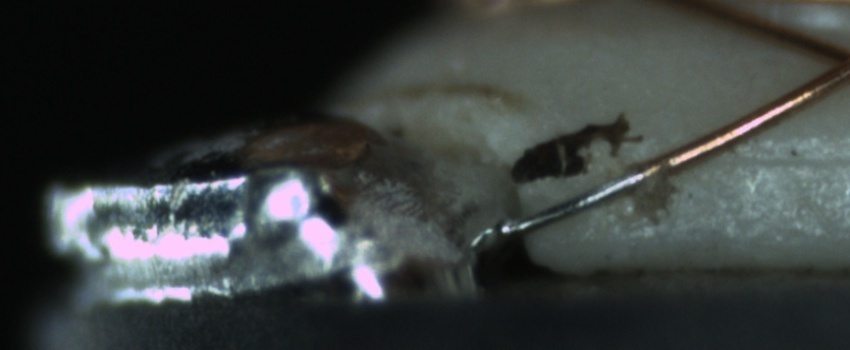CL: (805, 28, 850, 92)
DL: (713, 128, 850, 189)
TS: (487, 164, 653, 243)
TTCW: (478, 153, 672, 249)
